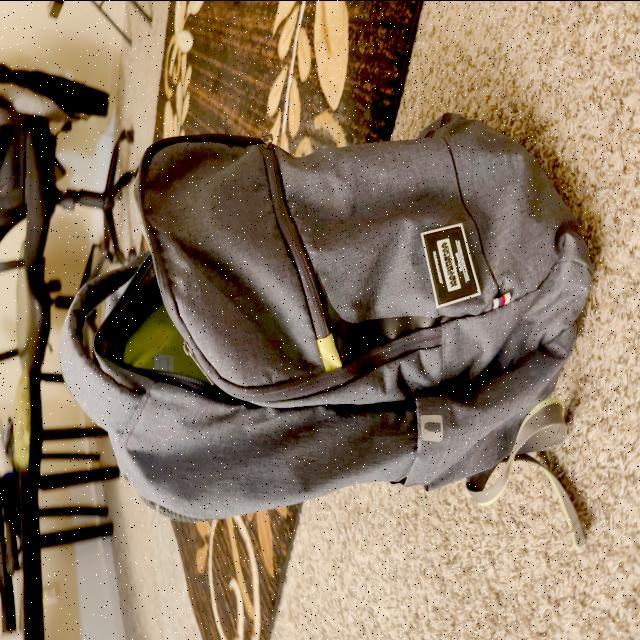bag: (202, 192, 492, 444)
